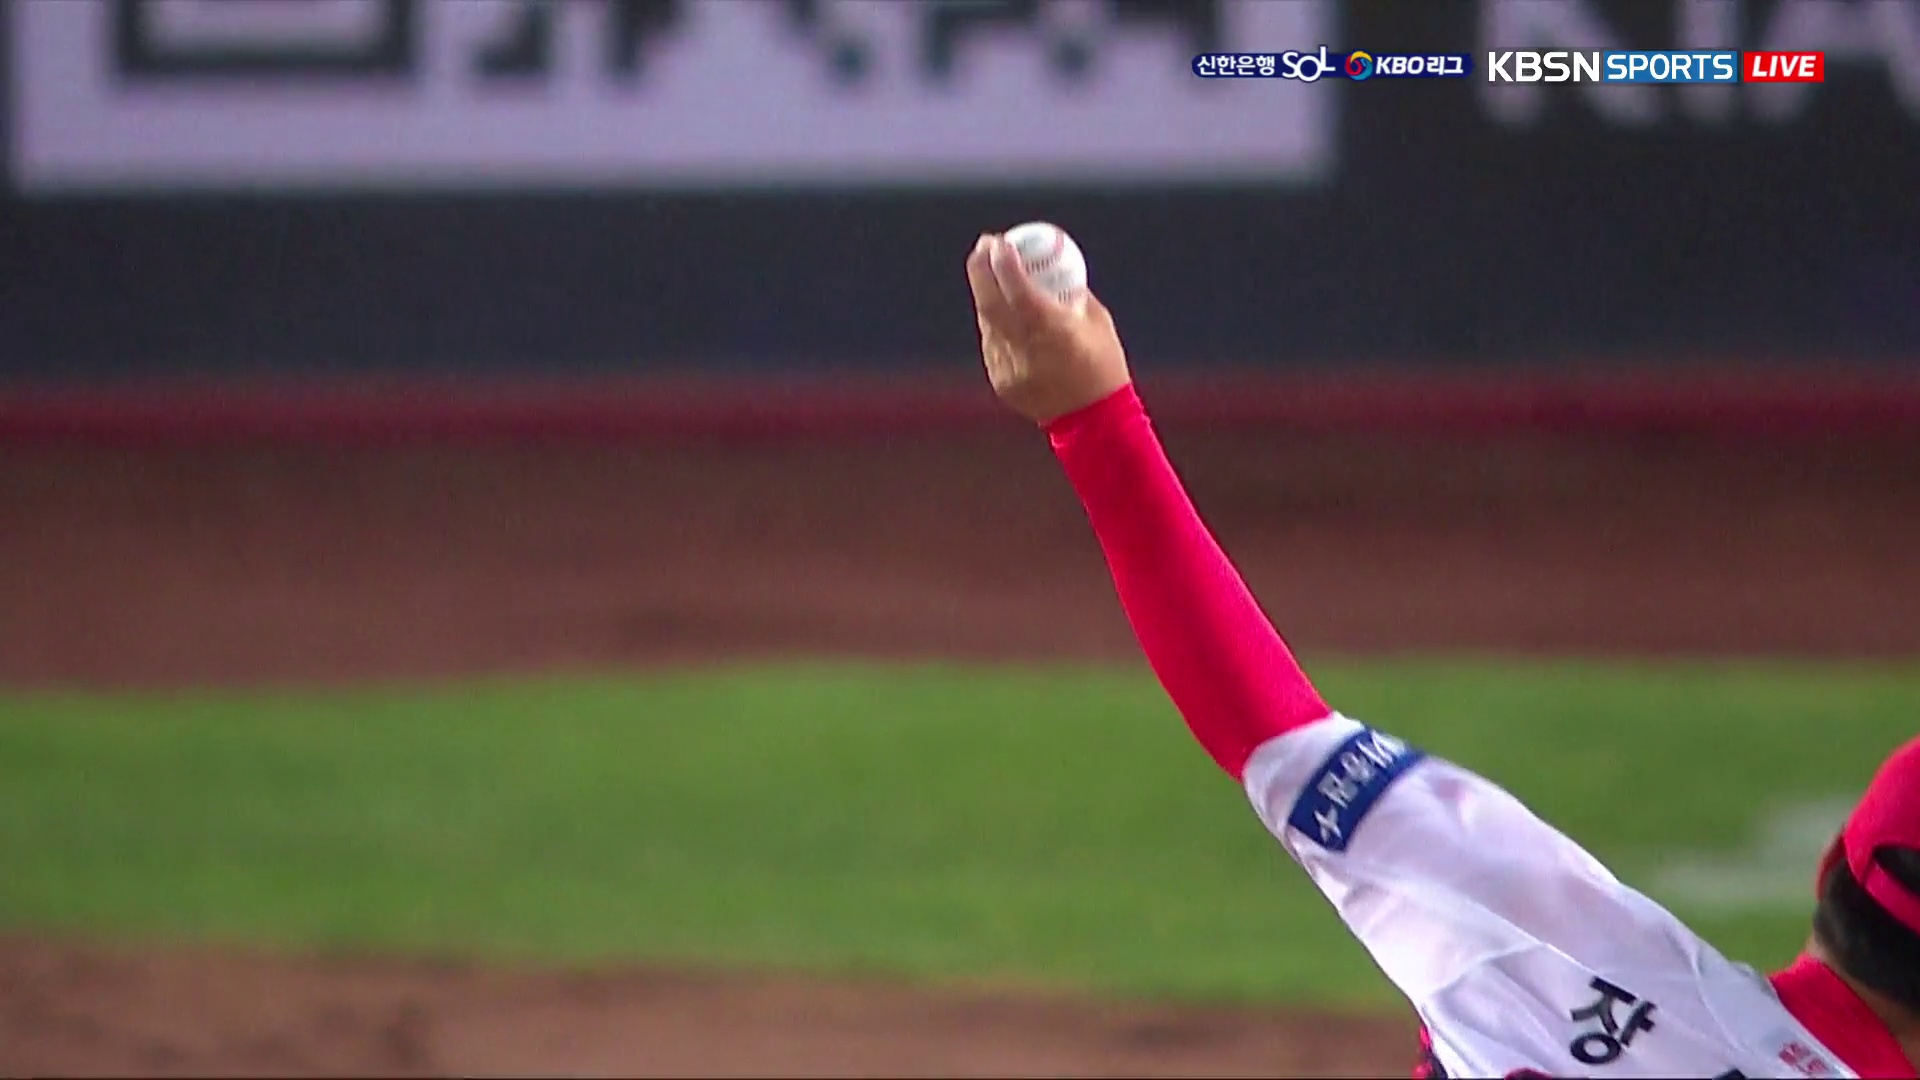zoomin_hand: (953, 211, 1391, 843)
